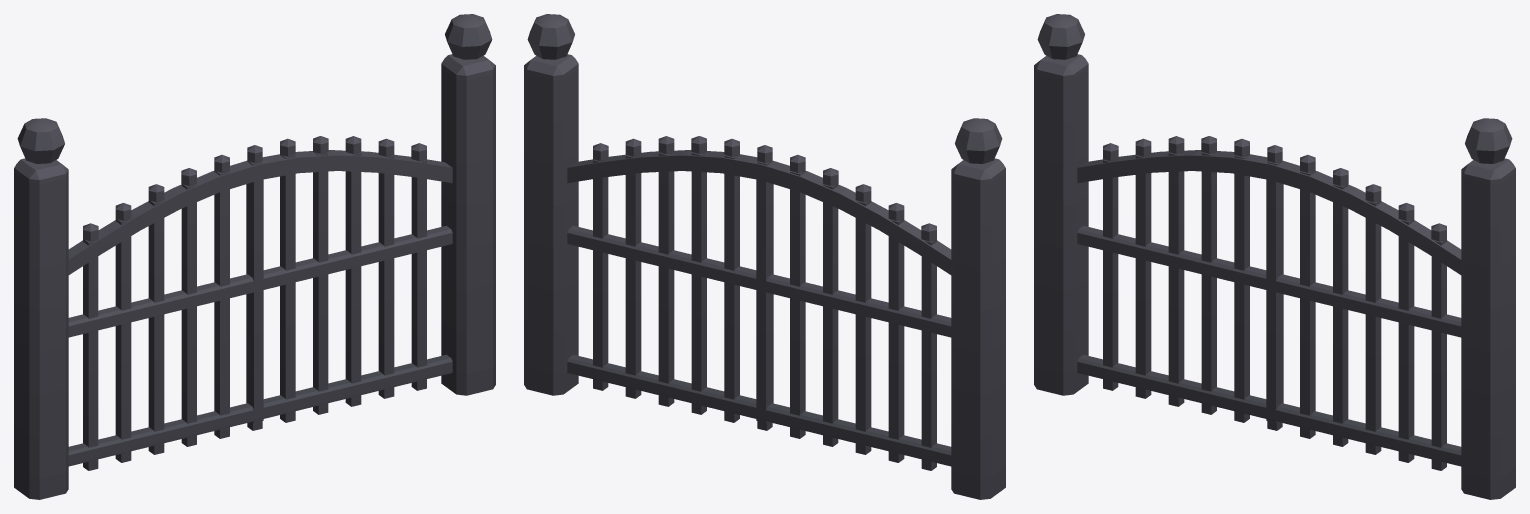
Rendered from iron_gate_panel.glb.
3 renders of one model, left to right at view 1: azimuth 30°, elevation 25°; view 2: azimuth 150°, elevation 25°; view 3: azimuth 330°, elevation 25°, orthographic.
Parts seen in each view (by area): view 1: iron_gate_panel; view 2: iron_gate_panel; view 3: iron_gate_panel.
Part boxes in pixels (bbox=[...]): iron_gate_panel: bbox=[14, 14, 495, 499]; iron_gate_panel: bbox=[524, 14, 1005, 499]; iron_gate_panel: bbox=[1034, 14, 1515, 499].
Bounding box in the file's own units: 2.86 × 2.15 × 0.26.
Materials: 1 (1 with a texture image).
